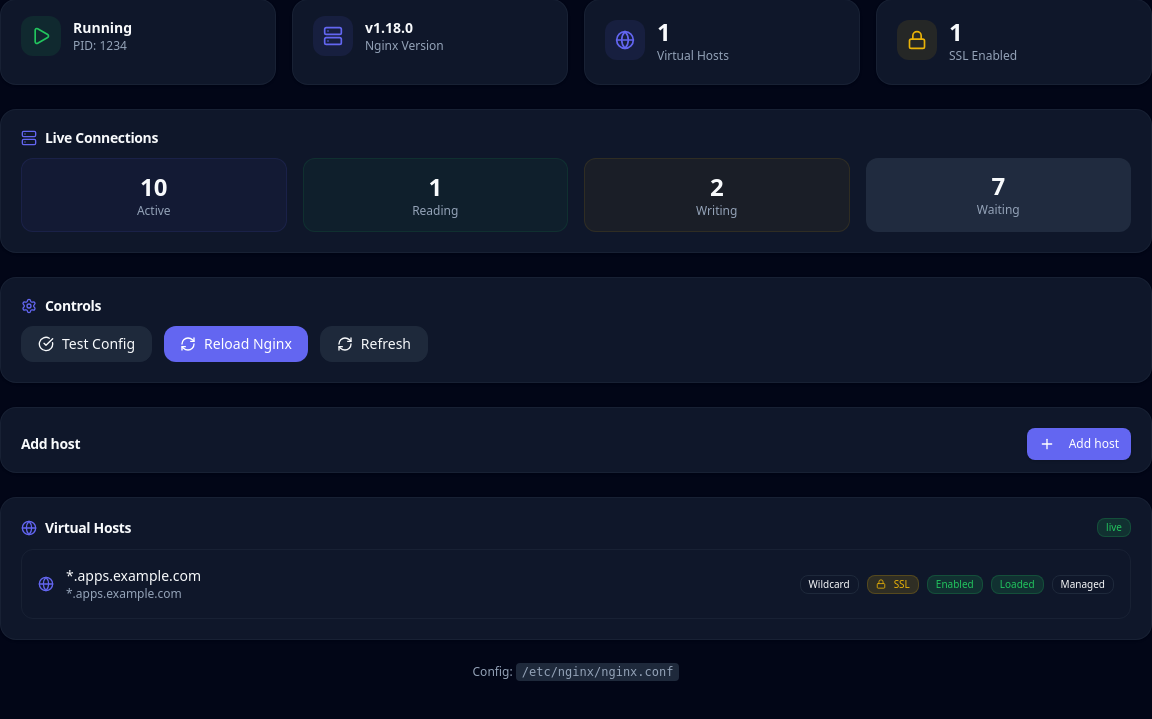
Test: NginxPage › renders loaded config details for managed wildcard TLS hosts
Click the 1st text "*.apps.example.com" at point(134, 576), box [66,566,201,586]
(page scrolled)
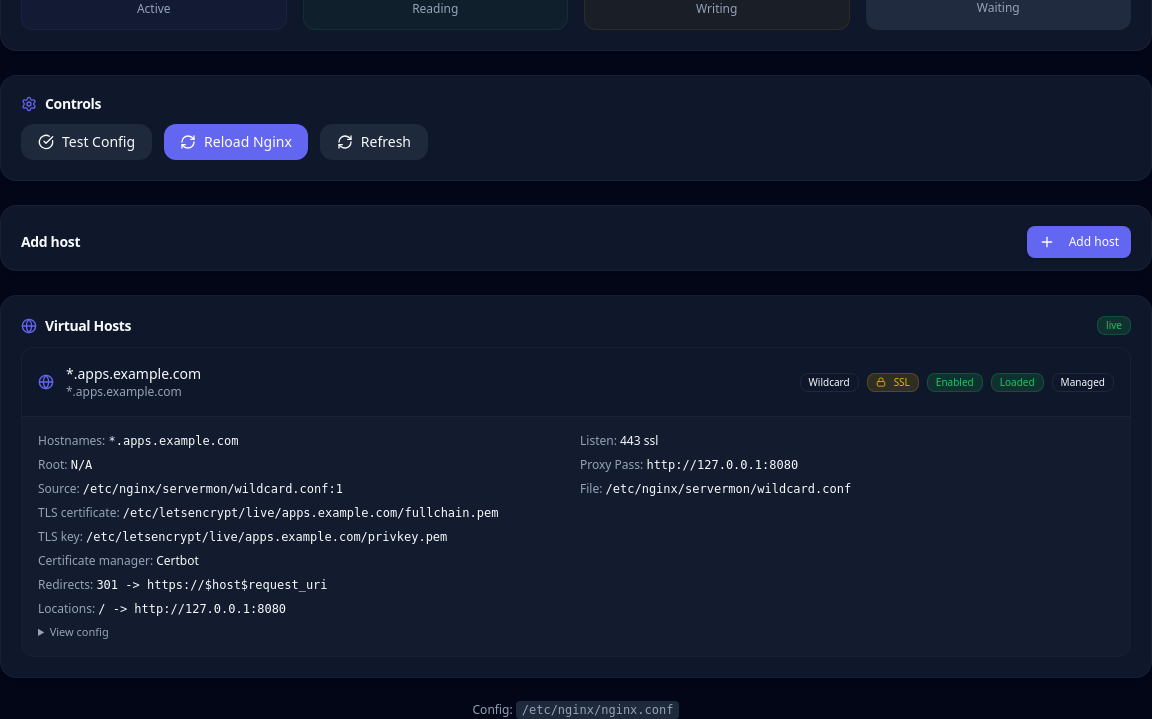
Result: the text "TLS certificate:" is shown at [38,504,120,521]
Result: the text "/etc/letsencrypt/live/apps.example.com/fullchain.pem" is shown at [123,506,498,520]
Result: the text "TLS key:" is shown at [38,528,83,545]
